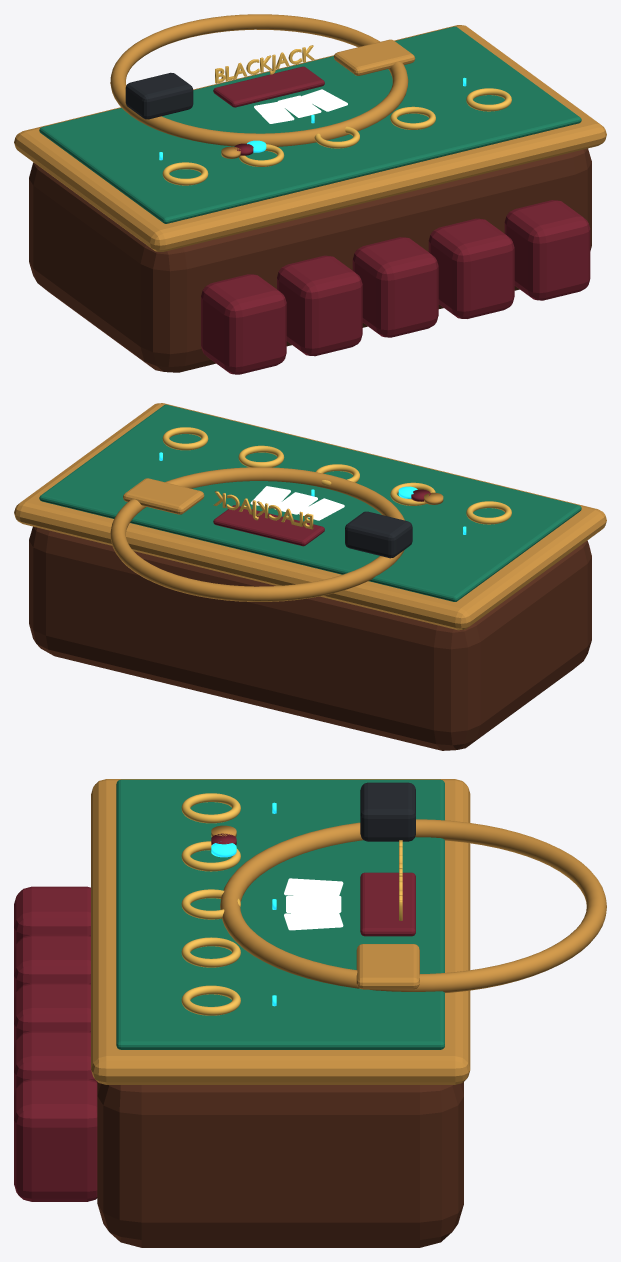
Rendered from BHC_PROP_BLACKJACK.glb.
The picture shows the model from 3 angles, top to bottom: view 1: azimuth 30°, elevation 25°; view 2: azimuth 150°, elevation 25°; view 3: azimuth 270°, elevation 25°; orthographic projection. The views are drawn at different scales.
Visible parts, largest first — view 1: SM_BHC_Blackjack_Felt, SM_BHC_Blackjack_Base, SM_BHC_Blackjack_Tabletop, SM_BHC_Blackjack_Dealer_Rail, SM_BHC_Blackjack_Seat_00, SM_BHC_Blackjack_Seat_02, SM_BHC_Blackjack_Seat_04, SM_BHC_Blackjack_Seat_03, SM_BHC_Blackjack_Seat_01, SM_BHC_Blackjack_Shoe, SM_BHC_Blackjack_Dealer_Pad, SM_BHC_Blackjack_Discard_Tray (+7 smaller); view 2: SM_BHC_Blackjack_Base, SM_BHC_Blackjack_Felt, SM_BHC_Blackjack_Tabletop, SM_BHC_Blackjack_Dealer_Rail, SM_BHC_Blackjack_Shoe, SM_BHC_Blackjack_Dealer_Pad, SM_BHC_Blackjack_Discard_Tray, SM_BHC_Blackjack_Sign, SM_BHC_Blackjack_Chip_Ring_00, SM_BHC_Blackjack_Chip_Ring_04, SM_BHC_Blackjack_Chip_Ring_03, SM_BHC_Blackjack_Card_00 (+3 smaller); view 3: SM_BHC_Blackjack_Felt, SM_BHC_Blackjack_Base, SM_BHC_Blackjack_Tabletop, SM_BHC_Blackjack_Dealer_Rail, SM_BHC_Blackjack_Seat_04, SM_BHC_Blackjack_Seat_00, SM_BHC_Blackjack_Seat_01, SM_BHC_Blackjack_Seat_03, SM_BHC_Blackjack_Seat_02, SM_BHC_Blackjack_Dealer_Pad, SM_BHC_Blackjack_Shoe, SM_BHC_Blackjack_Discard_Tray (+8 smaller).
Boxes of the visible parts, x1,y1,x2,y2 form: SM_BHC_Blackjack_Felt: (39, 26, 581, 223); SM_BHC_Blackjack_Base: (29, 148, 591, 372); SM_BHC_Blackjack_Tabletop: (14, 25, 606, 251); SM_BHC_Blackjack_Dealer_Rail: (110, 14, 408, 146); SM_BHC_Blackjack_Seat_00: (201, 274, 286, 374); SM_BHC_Blackjack_Seat_02: (352, 237, 438, 337); SM_BHC_Blackjack_Seat_04: (504, 200, 590, 300); SM_BHC_Blackjack_Seat_03: (428, 218, 514, 318); SM_BHC_Blackjack_Seat_01: (277, 255, 362, 356); SM_BHC_Blackjack_Shoe: (125, 72, 193, 119); SM_BHC_Blackjack_Dealer_Pad: (213, 66, 324, 107); SM_BHC_Blackjack_Discard_Tray: (334, 39, 415, 75); SM_BHC_Blackjack_Base: (29, 526, 591, 750); SM_BHC_Blackjack_Felt: (39, 404, 581, 601); SM_BHC_Blackjack_Tabletop: (14, 403, 606, 630); SM_BHC_Blackjack_Dealer_Rail: (110, 467, 404, 601); SM_BHC_Blackjack_Shoe: (345, 511, 412, 558); SM_BHC_Blackjack_Dealer_Pad: (213, 505, 324, 546); SM_BHC_Blackjack_Discard_Tray: (123, 478, 204, 514); SM_BHC_Blackjack_Sign: (213, 491, 313, 529); SM_BHC_Blackjack_Chip_Ring_00: (466, 501, 511, 524); SM_BHC_Blackjack_Chip_Ring_04: (162, 427, 208, 450); SM_BHC_Blackjack_Chip_Ring_03: (238, 445, 284, 467); SM_BHC_Blackjack_Card_00: (298, 498, 344, 520); SM_BHC_Blackjack_Felt: (116, 779, 444, 1049); SM_BHC_Blackjack_Base: (97, 1082, 463, 1247); SM_BHC_Blackjack_Tabletop: (91, 779, 470, 1084); SM_BHC_Blackjack_Dealer_Rail: (220, 819, 606, 992); SM_BHC_Blackjack_Seat_04: (14, 1079, 97, 1201); SM_BHC_Blackjack_Seat_00: (14, 886, 90, 951); SM_BHC_Blackjack_Seat_01: (14, 934, 90, 999); SM_BHC_Blackjack_Seat_03: (14, 1031, 97, 1095); SM_BHC_Blackjack_Seat_02: (14, 983, 90, 1047); SM_BHC_Blackjack_Dealer_Pad: (360, 872, 415, 936); SM_BHC_Blackjack_Shoe: (360, 782, 415, 841); SM_BHC_Blackjack_Discard_Tray: (356, 944, 419, 989).
Size of the model in its own units: 5.4 by 2.23 by 4.69.
